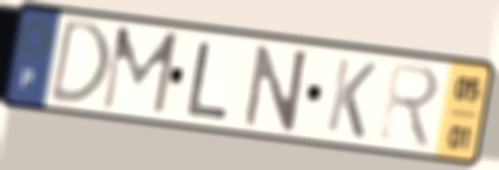D: (45, 16, 114, 107)
K: (323, 54, 381, 142)
L: (183, 38, 233, 122)
M: (97, 24, 182, 119)
N: (240, 42, 312, 134)
R: (376, 58, 443, 153)
